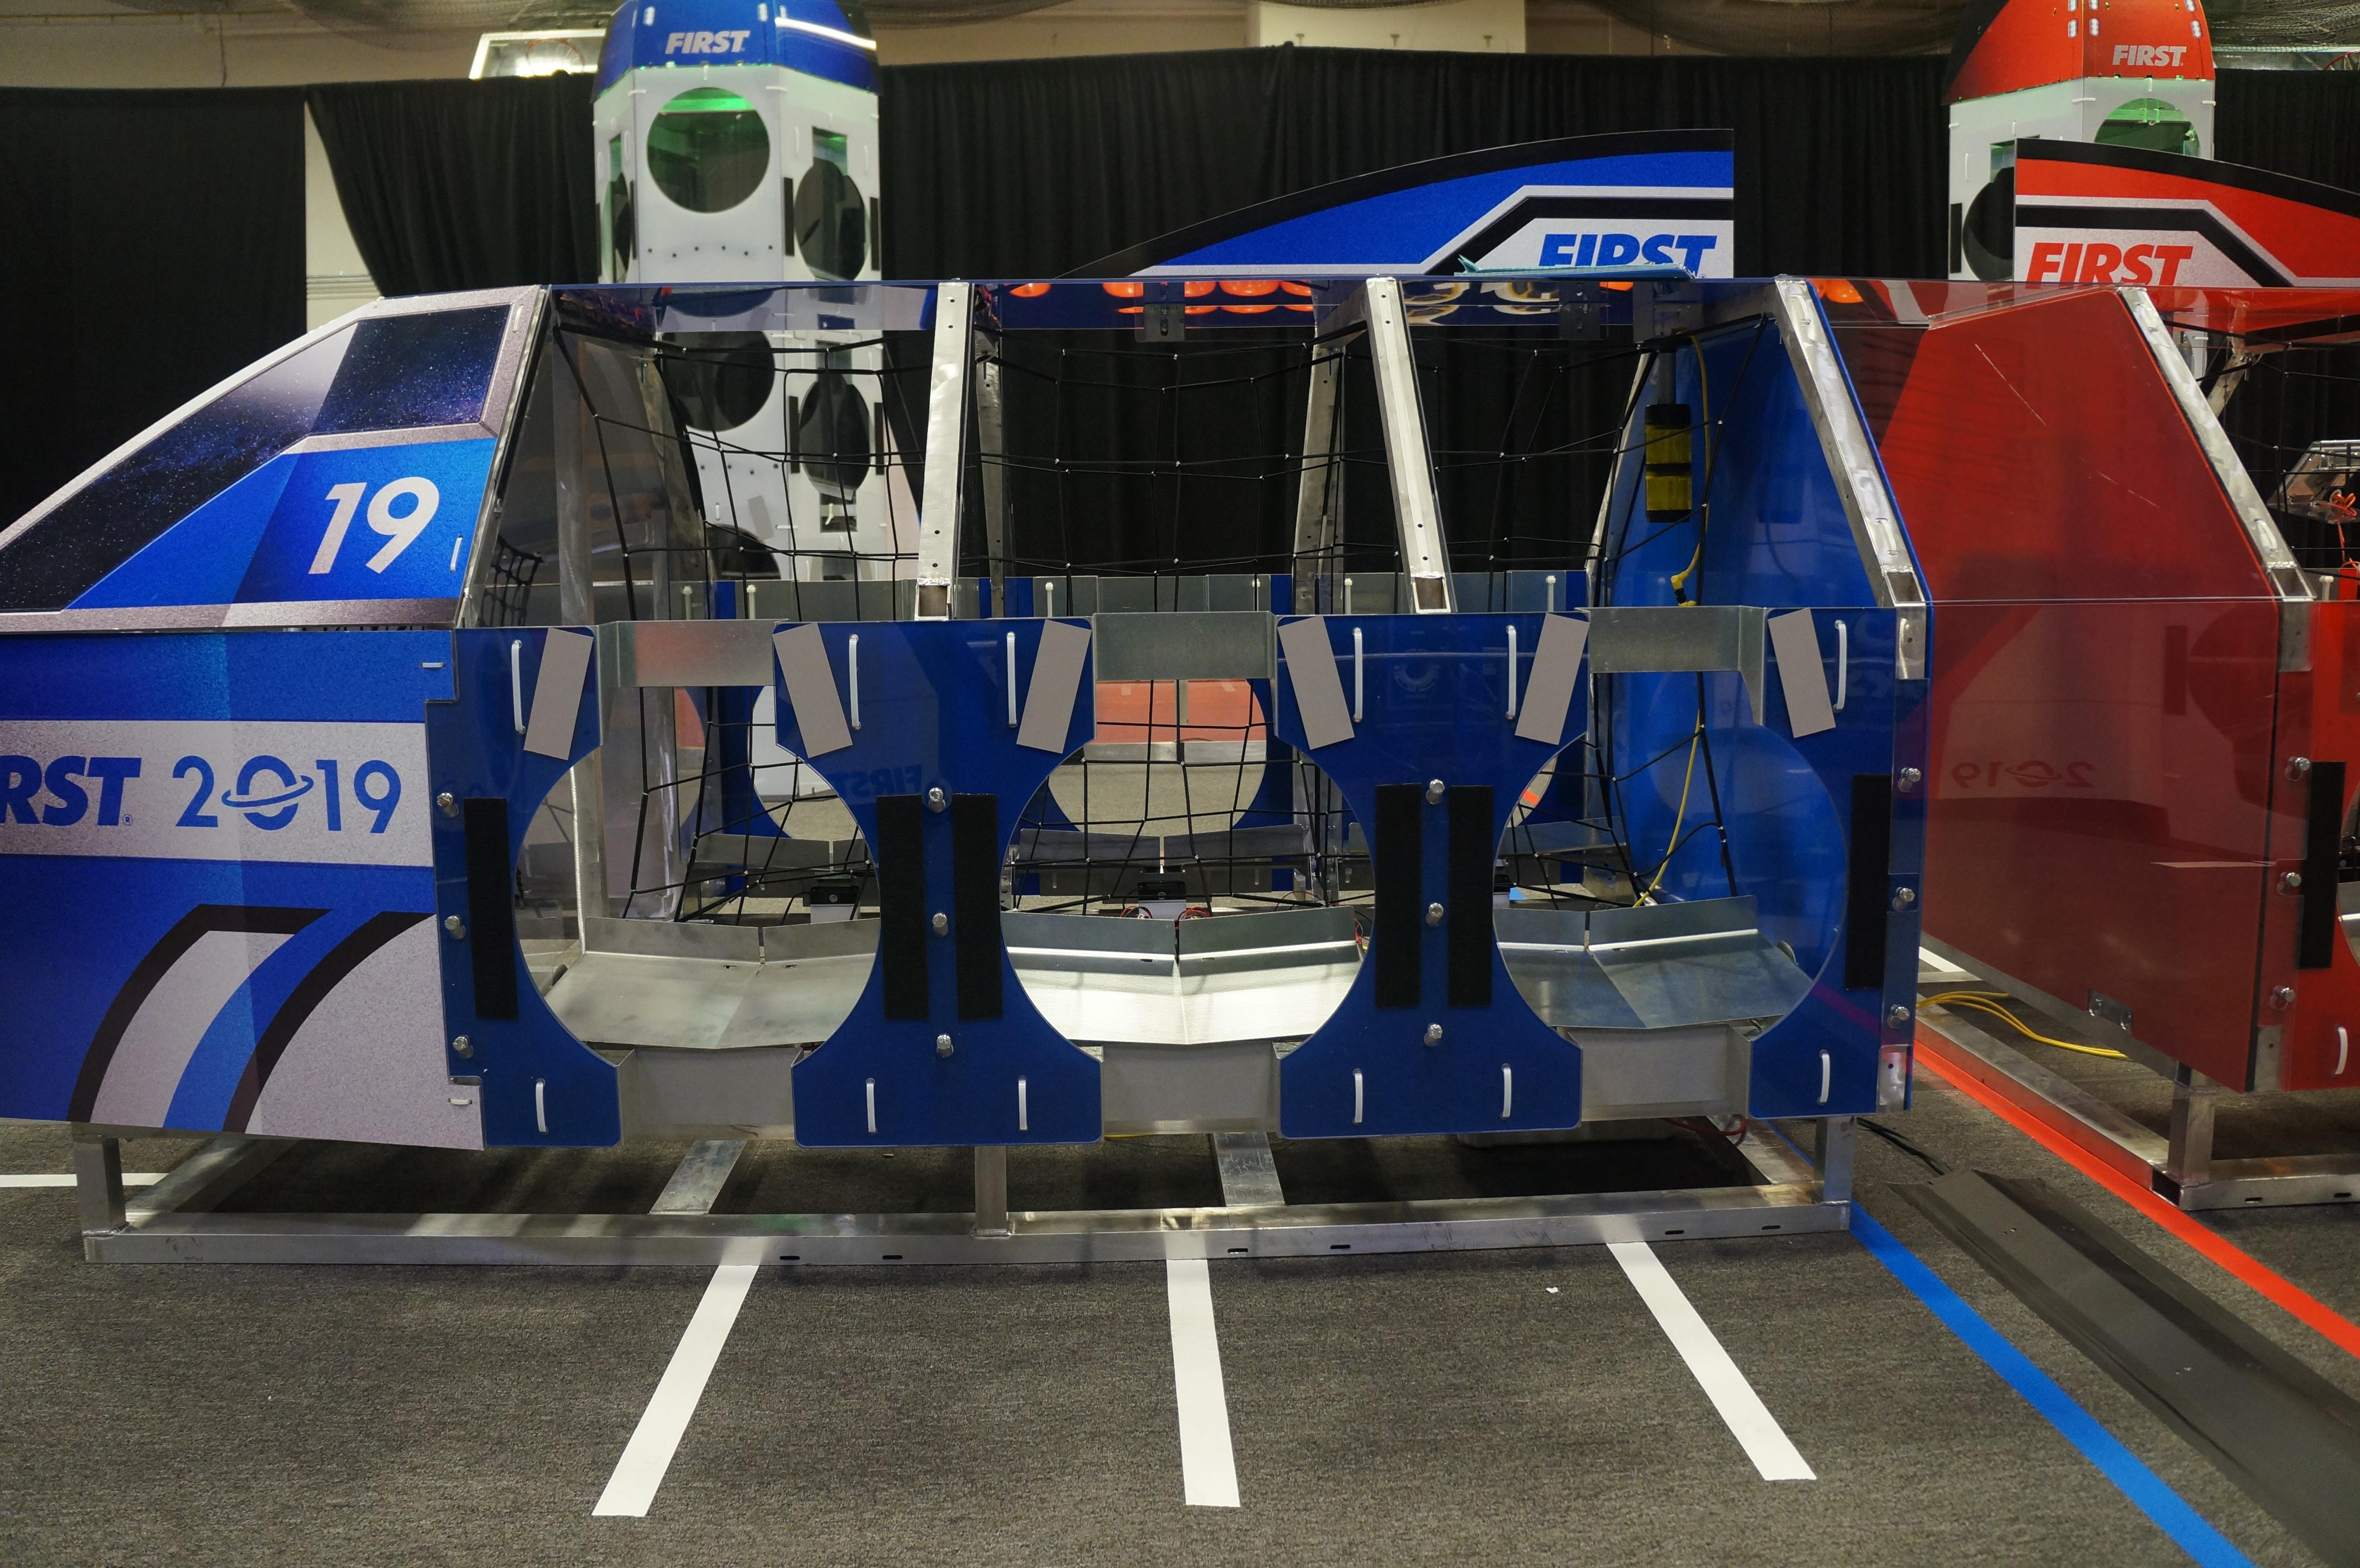Tape: (770, 623, 854, 763), (1013, 619, 1093, 756), (1277, 618, 1354, 751), (520, 628, 595, 761), (1513, 611, 1587, 745), (1772, 605, 1837, 735), (742, 492, 779, 539)
